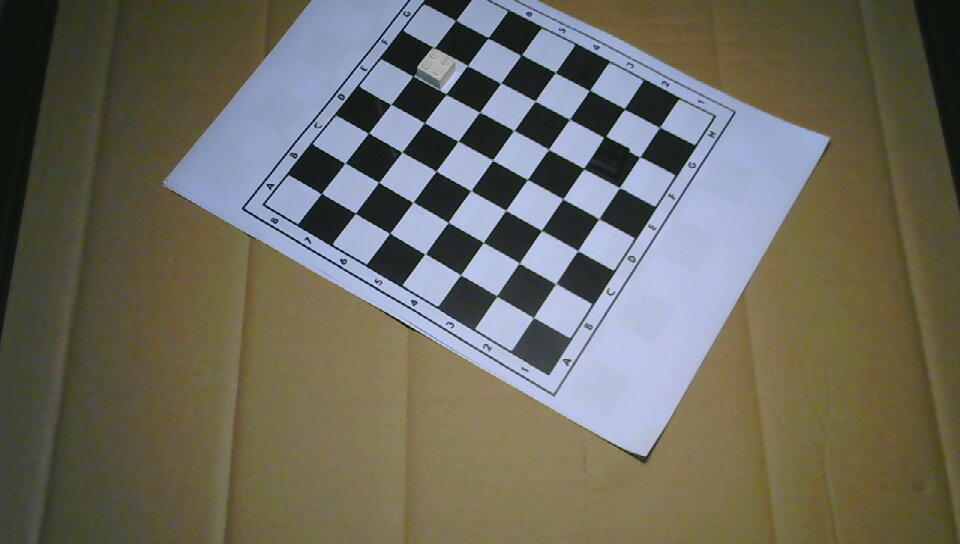bp: (588, 139, 630, 180)
wp: (418, 48, 457, 88)
